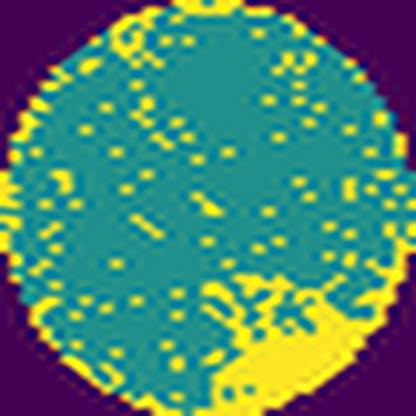Edge-Loc: (170, 222, 416, 416)
